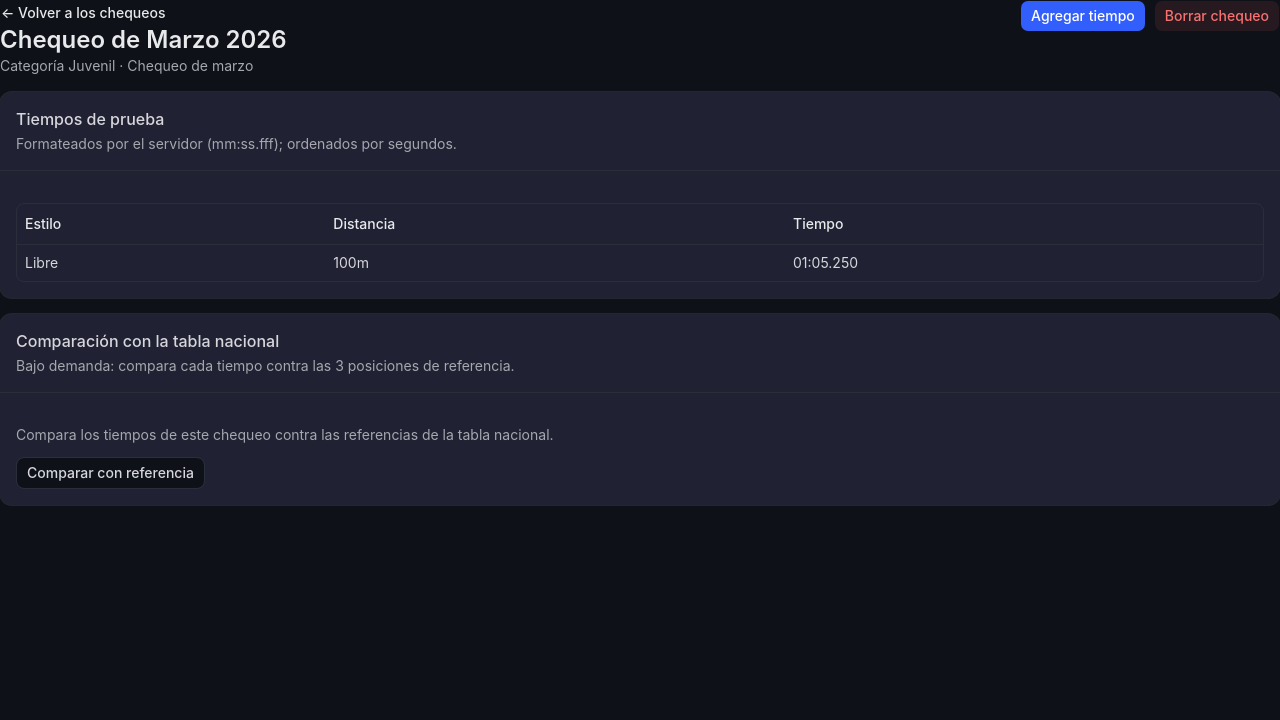
TimeFormDialog — alta de tiempo (C2/C5) › 409 residual mapeado al mensaje seguro (C5)
The width and height of the screenshot is (1280, 720).
Click the button with test id "time-new-button" at (1083, 16), box [1020,0,1146,32]
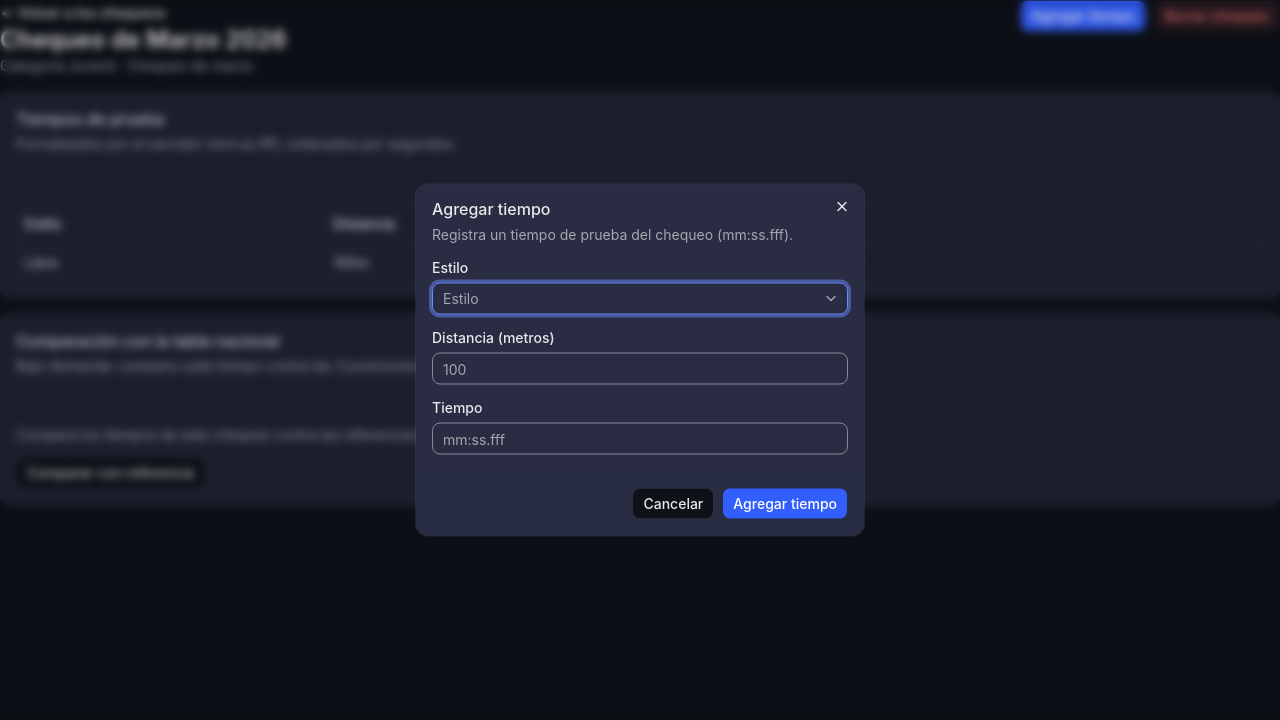
Now the dialog with test id "time-form-dialog" is shown, box [416,184,864,536]
Click the dropdown with test id "time-style-select" at (461, 298), box [432,282,848,314]
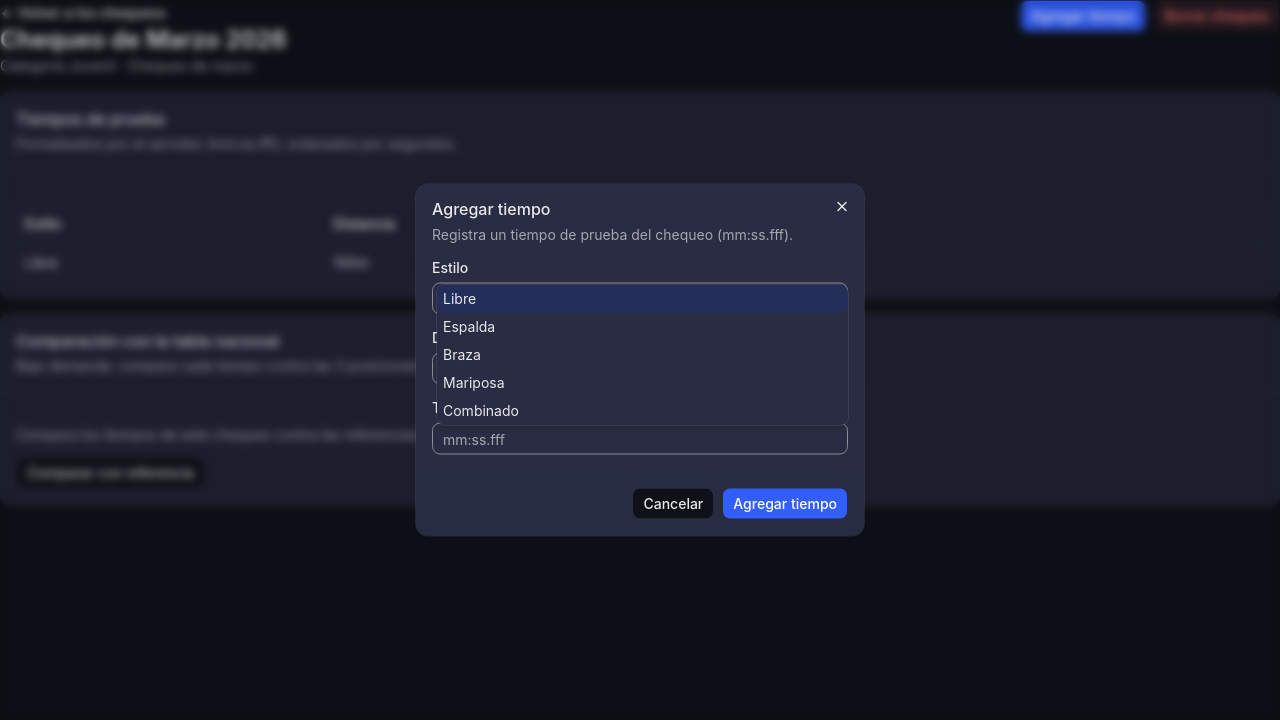
Click the option "Espalda" at (469, 326), box [443,318,495,334]
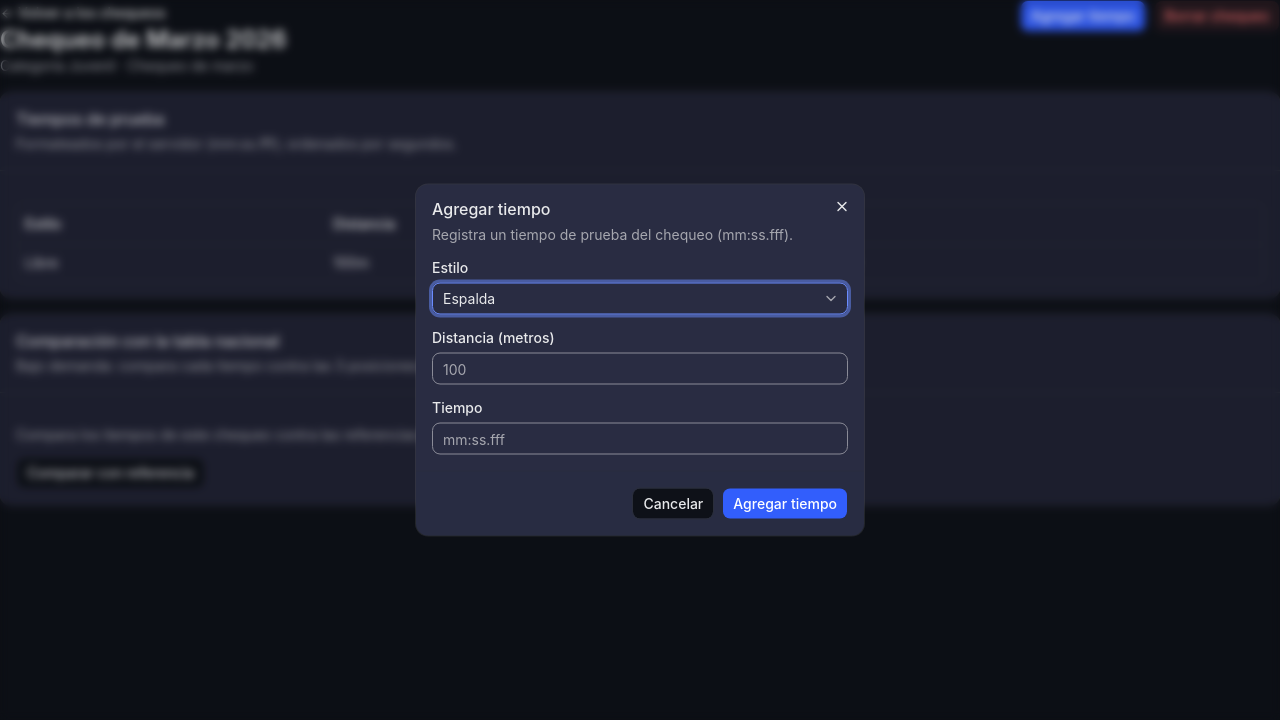
Type "50" into the number field with test id "time-distance-input" at (640, 368), box [432,352,848,384]
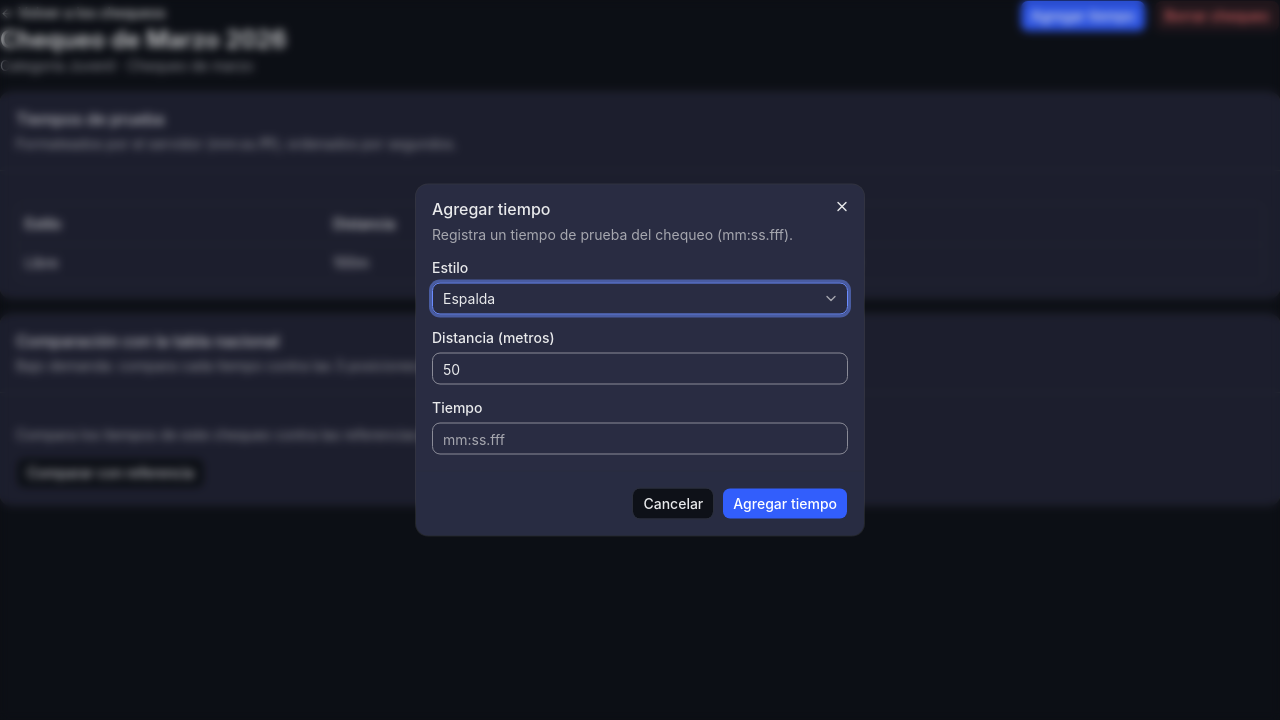
Type "00:30.000" into the field with test id "time-input" at (640, 438), box [432,422,848,454]
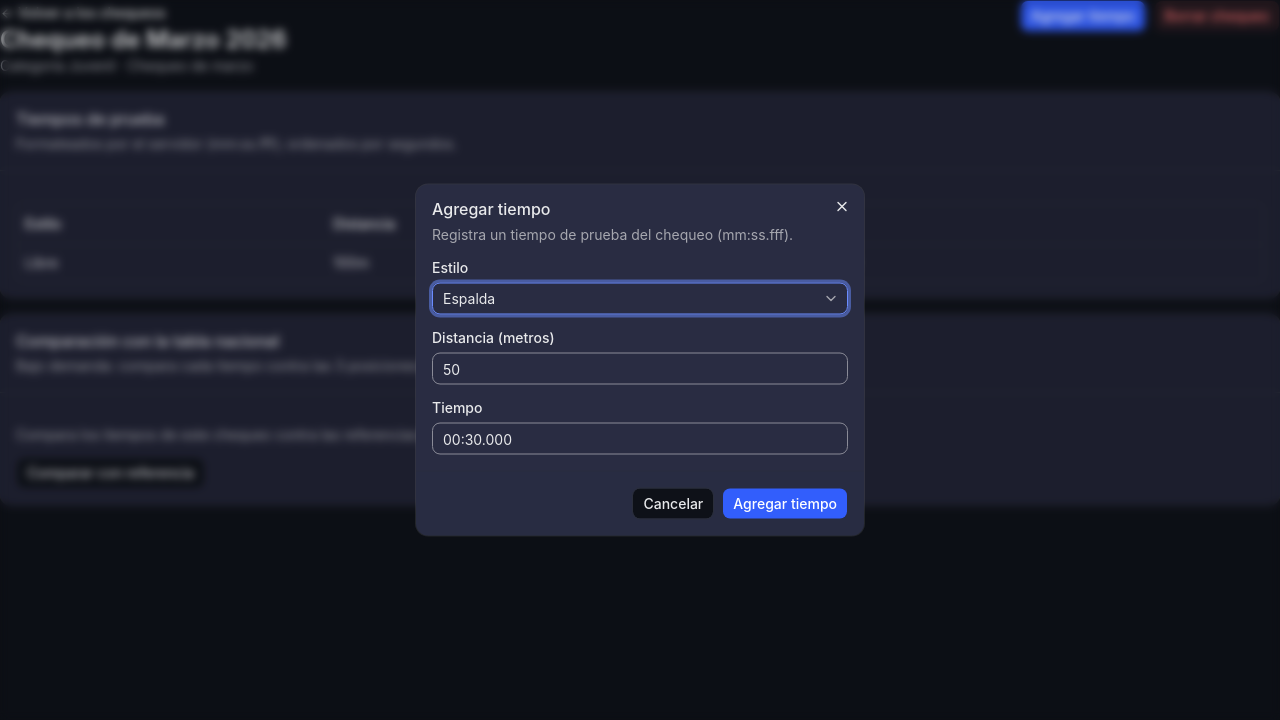
Click the button with test id "time-submit-button" at (785, 504), box [722,488,848,520]
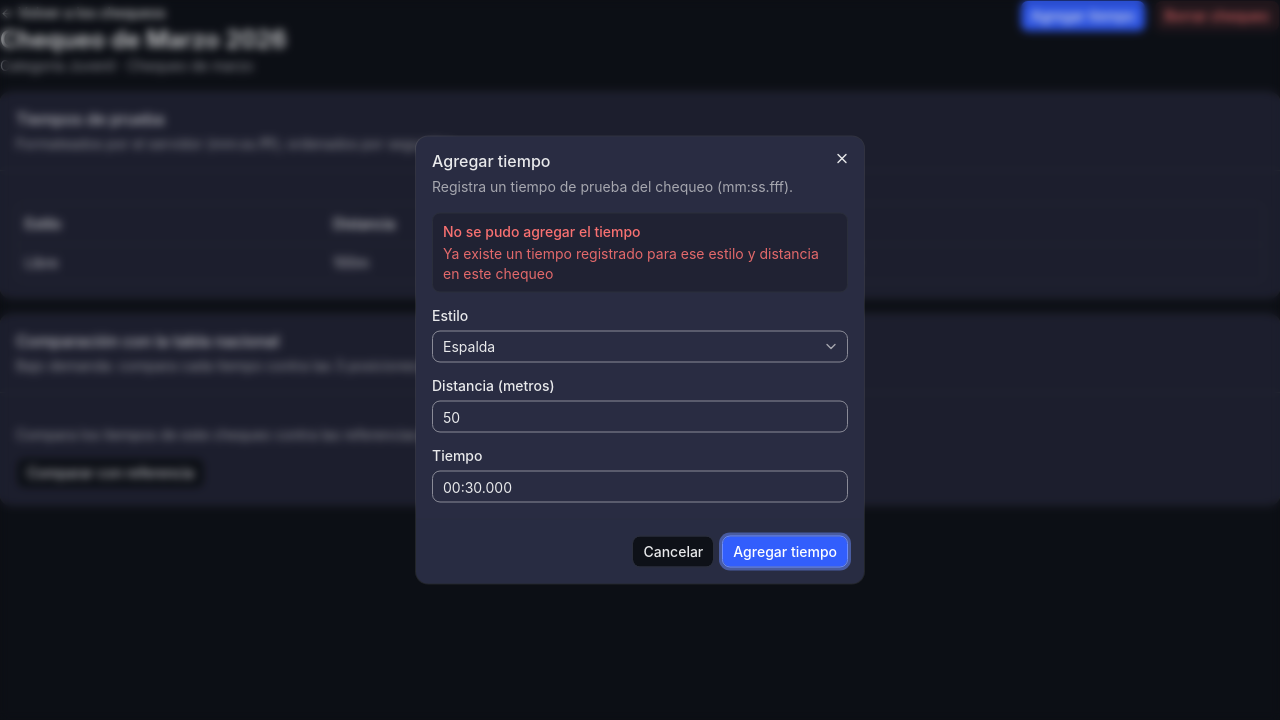
Now the text "Ya existe un tiempo registrado para ese estilo y distancia en este chequeo" is shown, box [443,244,837,284]
